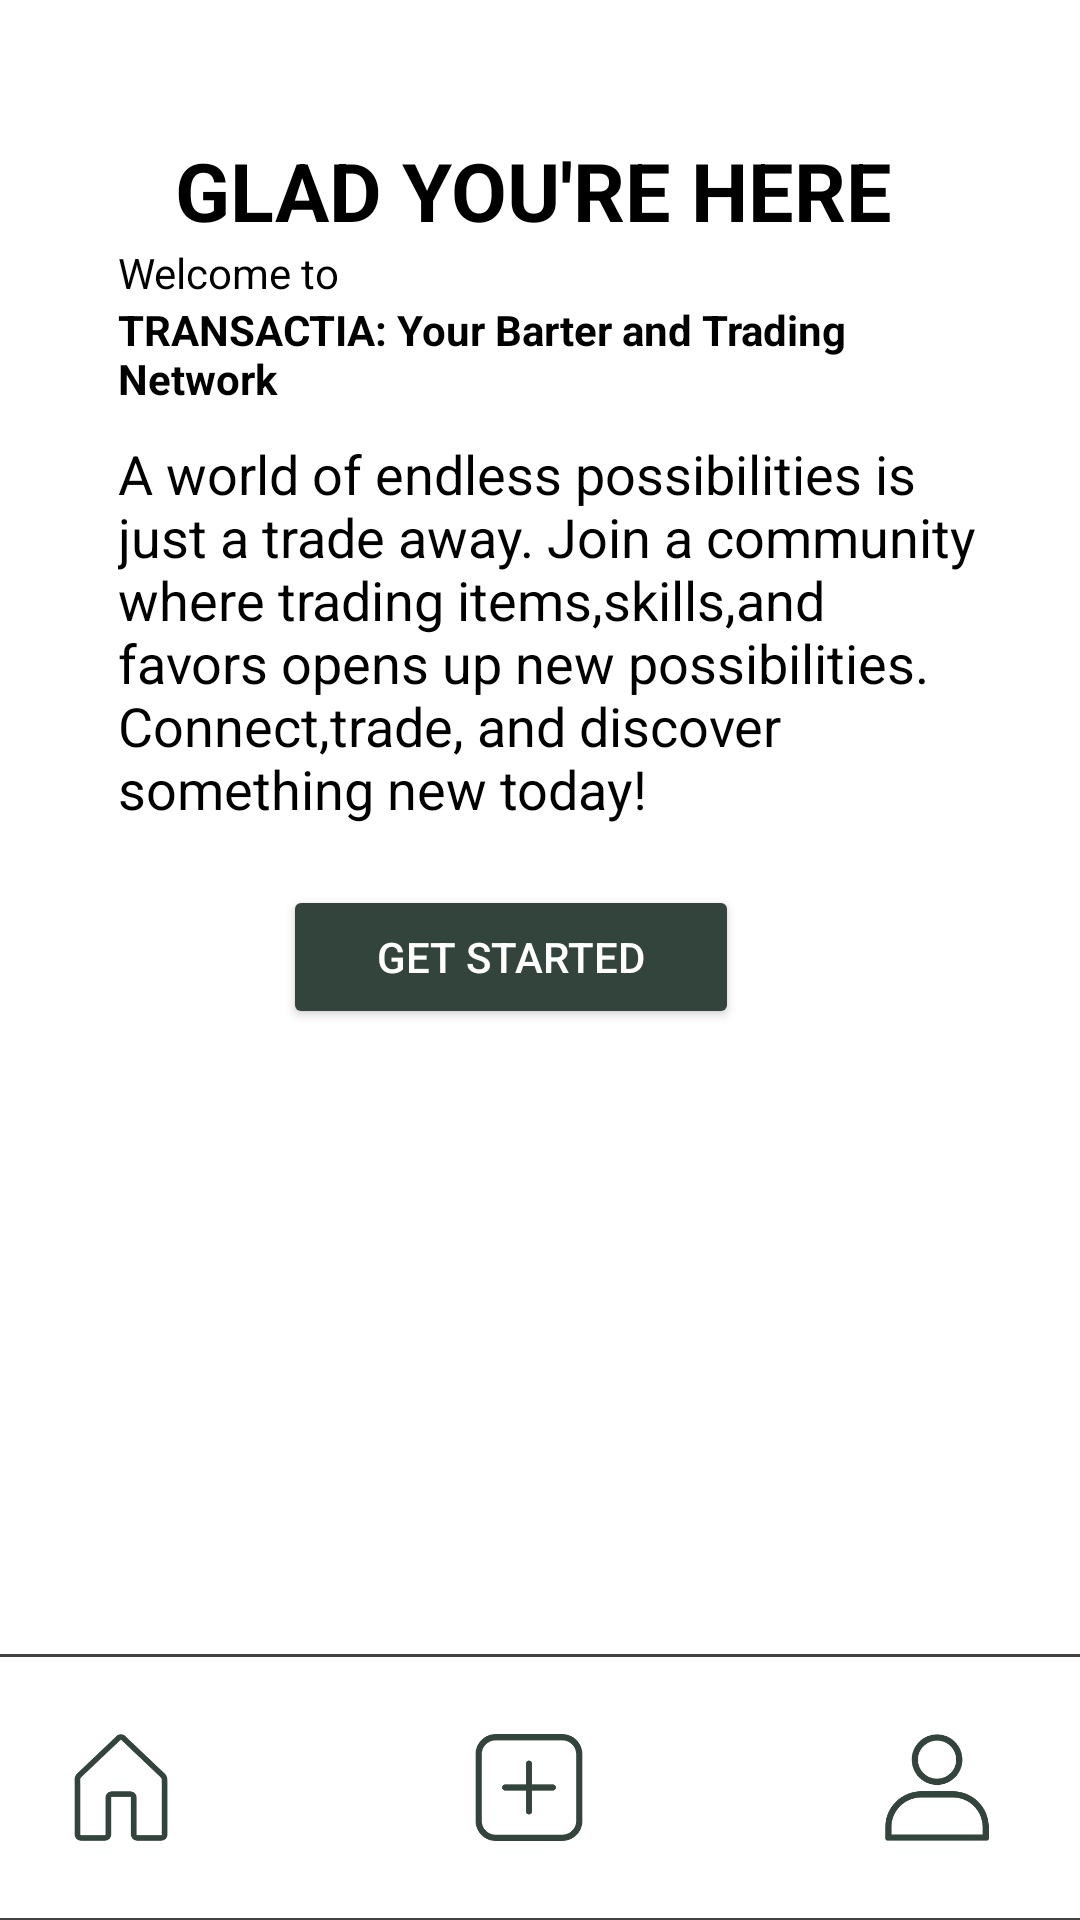

Where icons sit on this 1080×1920 app screen, as (left=x1, top=y1, right=x2, bottom=y2):
addg: (left=475, top=1734, right=583, bottom=1841)
